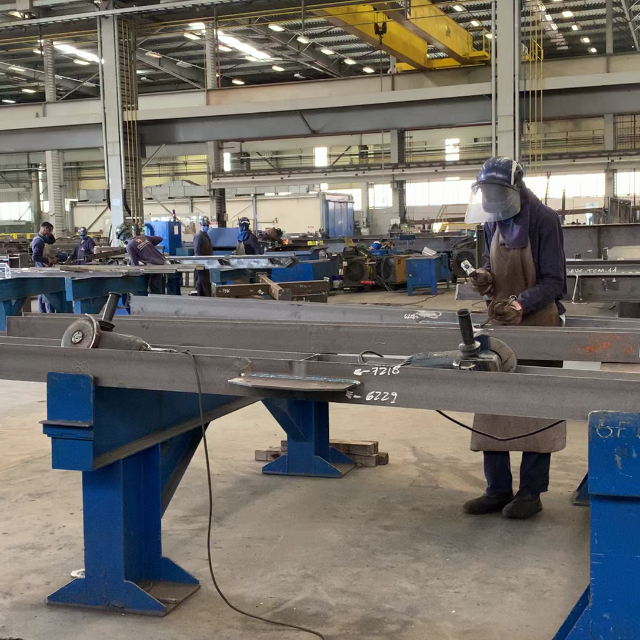face-shield: (463, 183, 521, 224)
glove: (487, 298, 525, 326), (465, 268, 492, 292)
helmet: (470, 155, 527, 184)
person: (462, 157, 571, 522)
safety-shoe: (501, 490, 545, 522), (462, 487, 516, 512)
